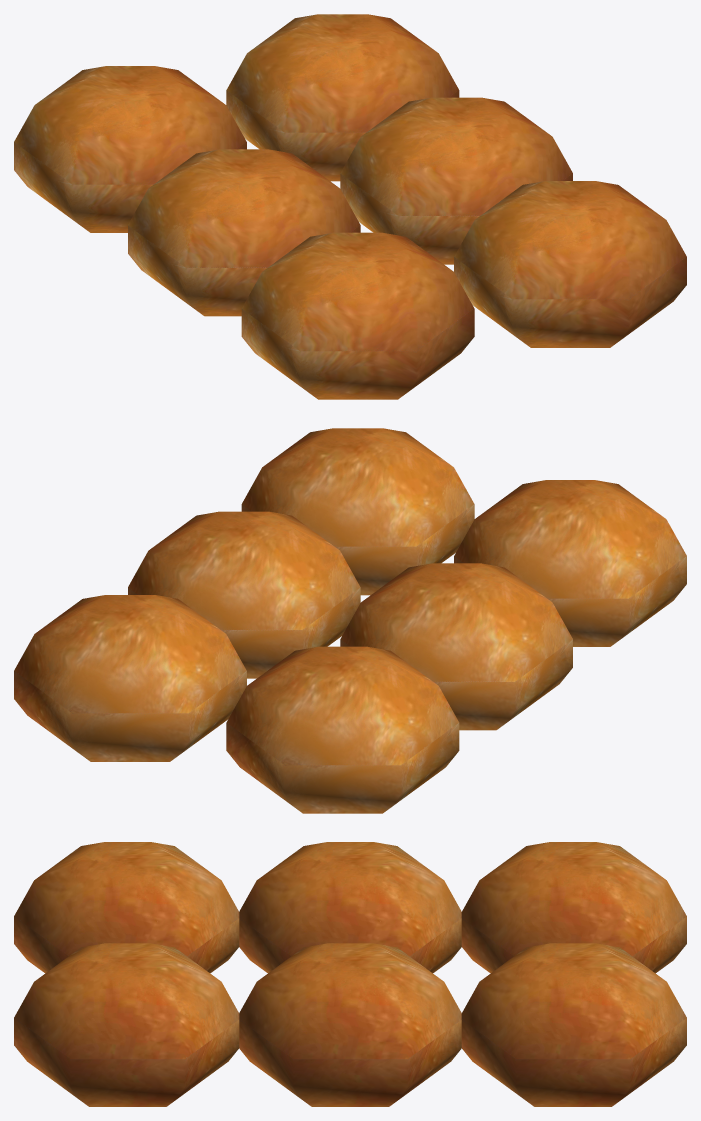
The model's file is Bunpile.fbx.
3 views of the same model, one above another, from view 1: azimuth 30°, elevation 25°; view 2: azimuth 150°, elevation 25°; view 3: azimuth 270°, elevation 25° (orthographic). The views are drawn at different scales.
Visible parts, largest first — view 1: BunPile.001; view 2: BunPile.001; view 3: BunPile.001.
Part boxes in pixels (x1=…): BunPile.001: x1=14, y1=14, x2=686, y2=399; BunPile.001: x1=14, y1=428, x2=686, y2=813; BunPile.001: x1=14, y1=842, x2=686, y2=1106.
Bounding box in the file's own units: 91.76 × 27.22 × 141.
